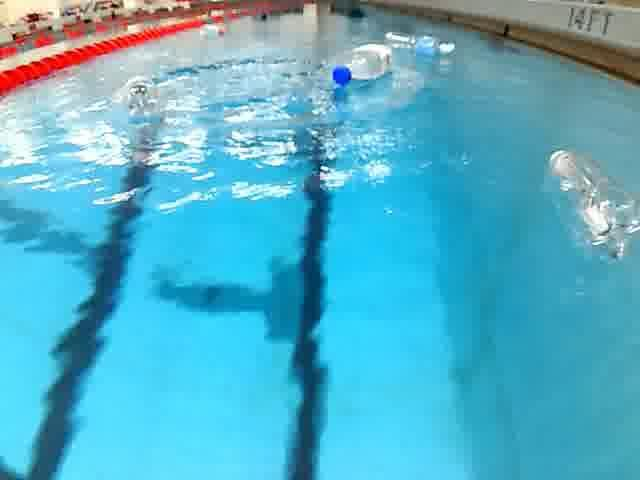Bottle: (536, 144, 640, 265), (322, 39, 398, 92), (193, 22, 230, 42)
